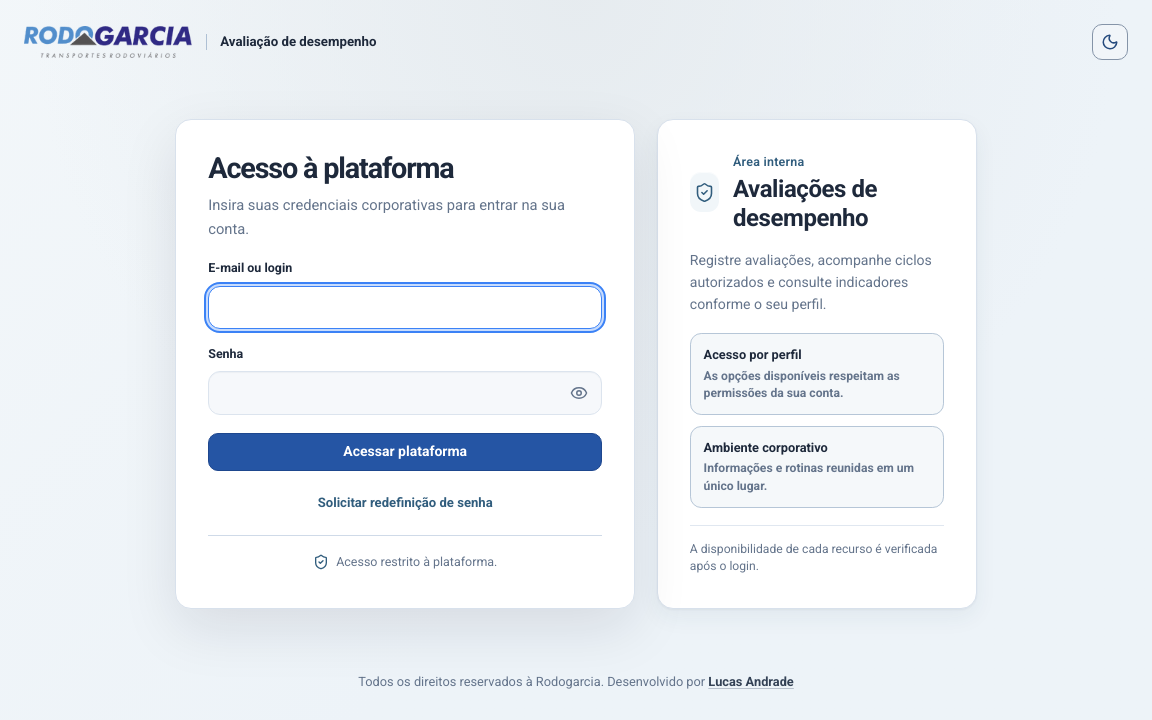
Test: Solicitação de recuperação no login › aceita o login, evita envios simultâneos e responde sem revelar se a conta existe
Click the button "Solicitar redefinição de senha" at (405, 503), box [310,487,501,519]
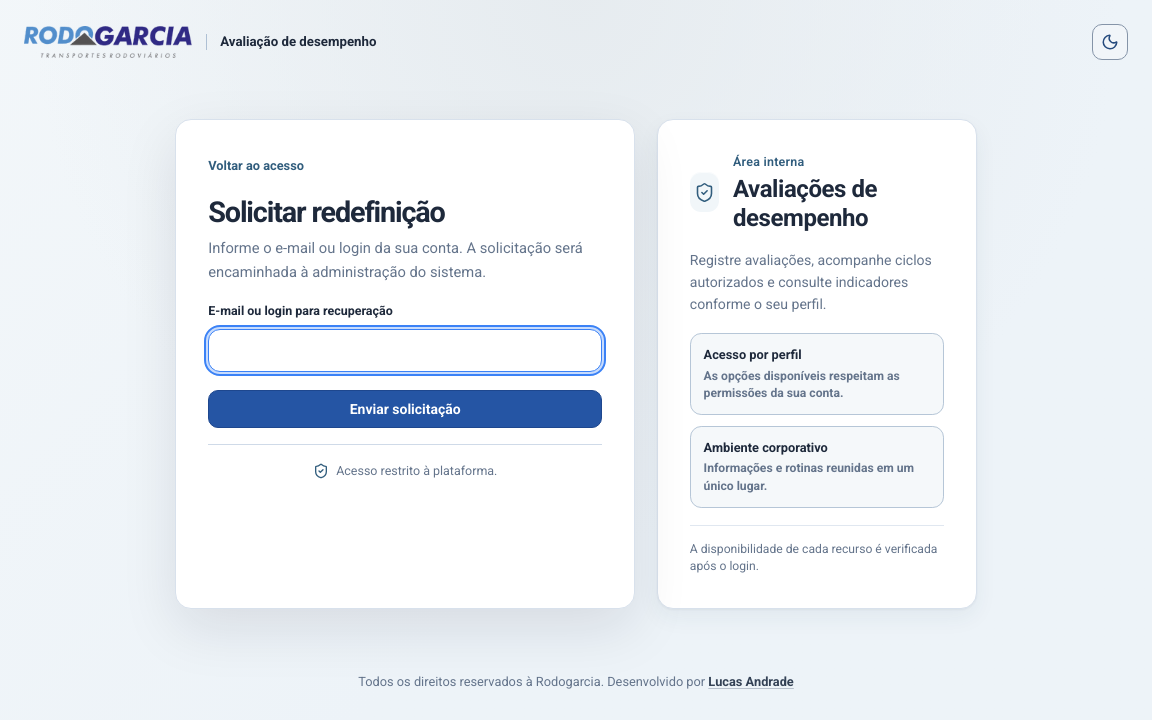
Click the button "Enviar solicitação" at (405, 409), box [208,390,602,428]
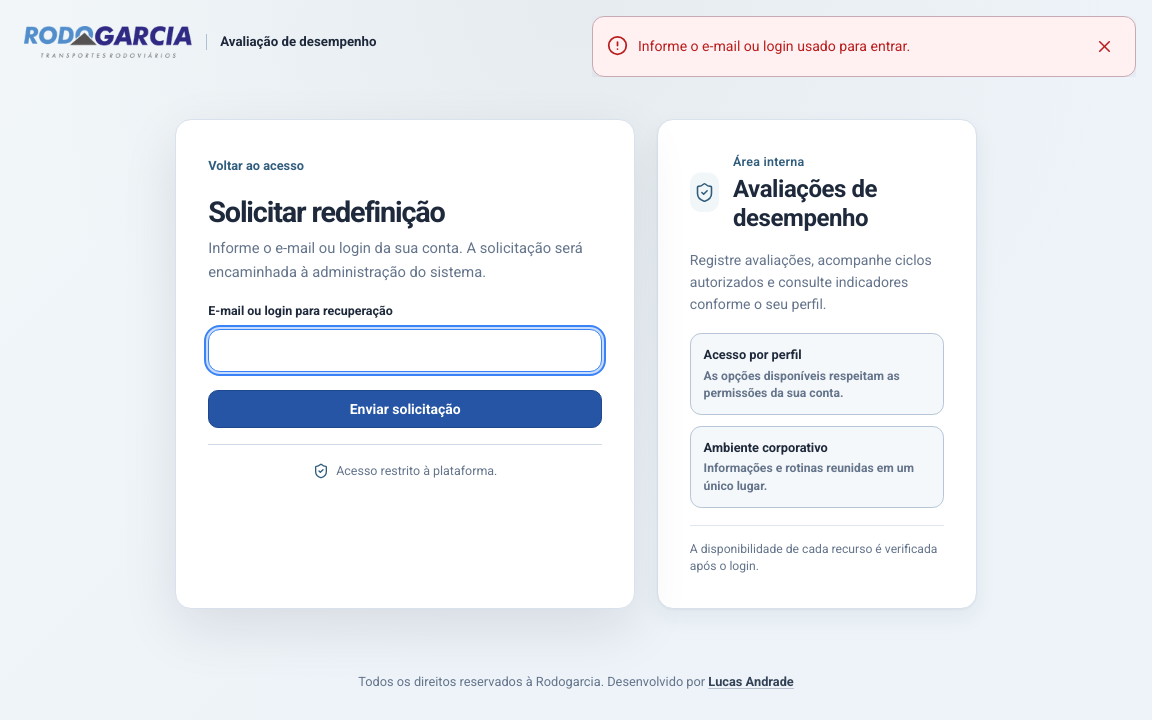
Expected: the message shows "Informe o e-mail ou login", [638,38,910,54]
Type " ficticio@example.invalid " into the field labelled "E-mail ou login para recuperação" at (405, 350), box [208,329,602,372]
Click the button "Enviar solicitação" at (405, 409), box [208,390,602,428]
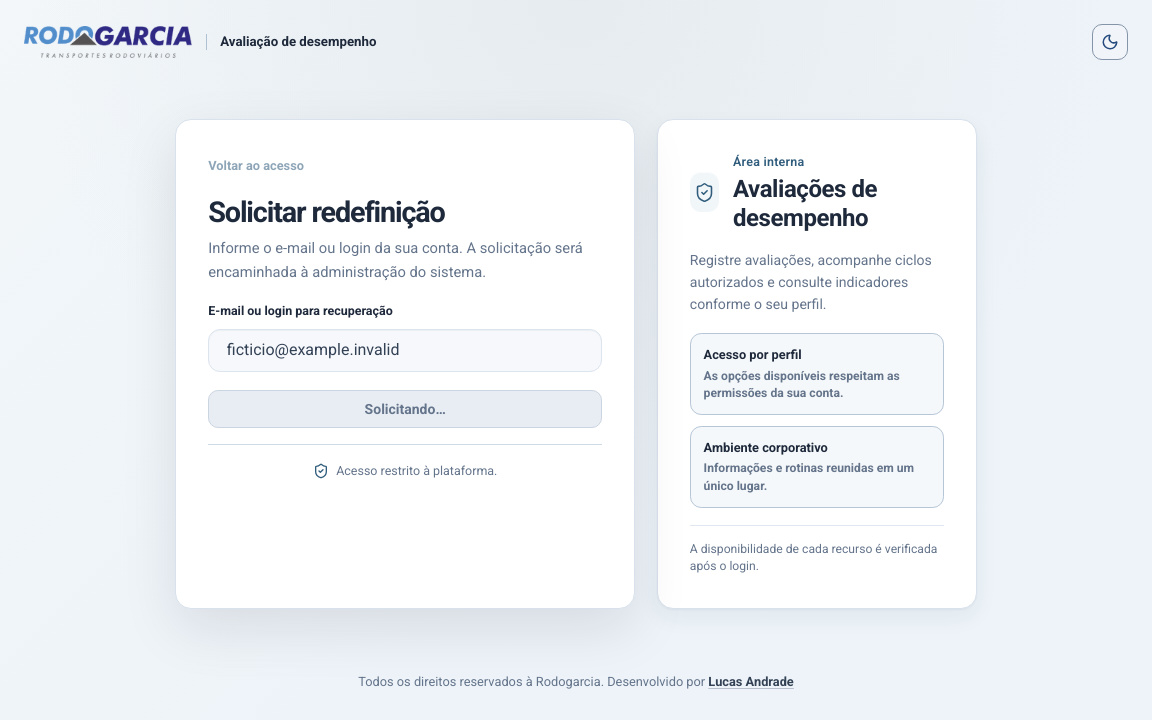
Click the button named "Enviar solicitação" at (405, 409), box [208,390,602,428]
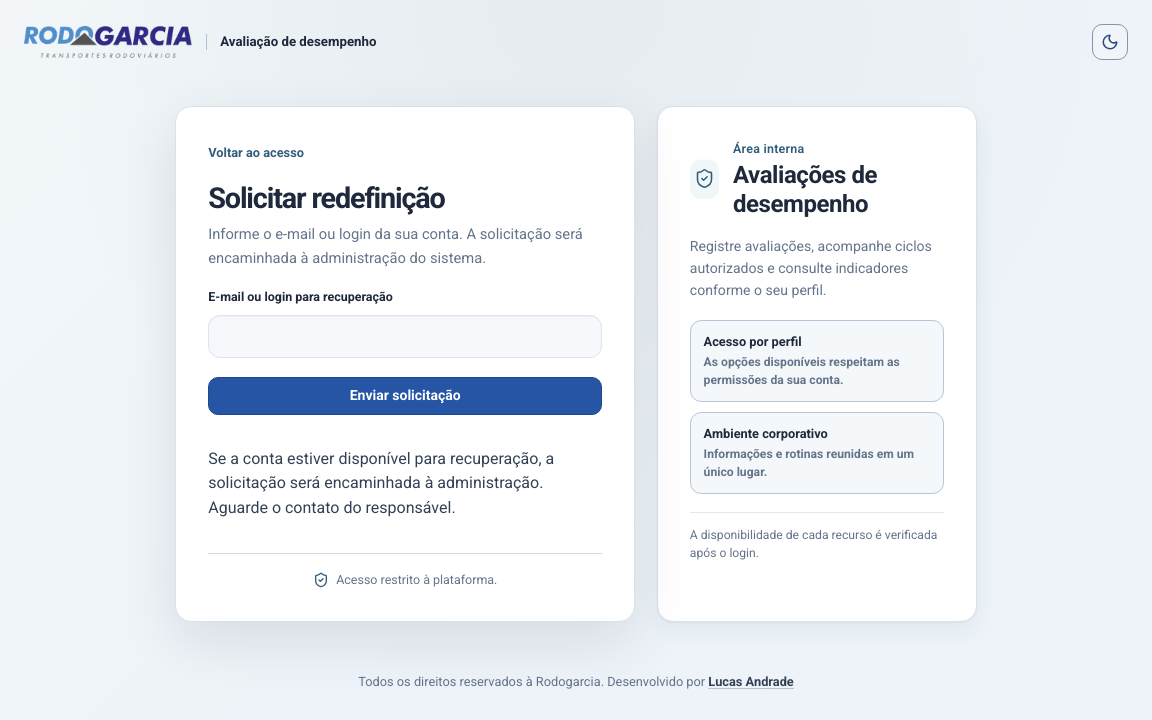
Expected: the text "Se a conta estiver disponível para recuperação" is shown, [208,449,554,517]
Expected: the field labelled "E-mail ou login para recuperação" is empty
Type "ficticio@example.invalid" into the field labelled "E-mail ou login para recuperação" at (405, 337), box [208,315,602,358]
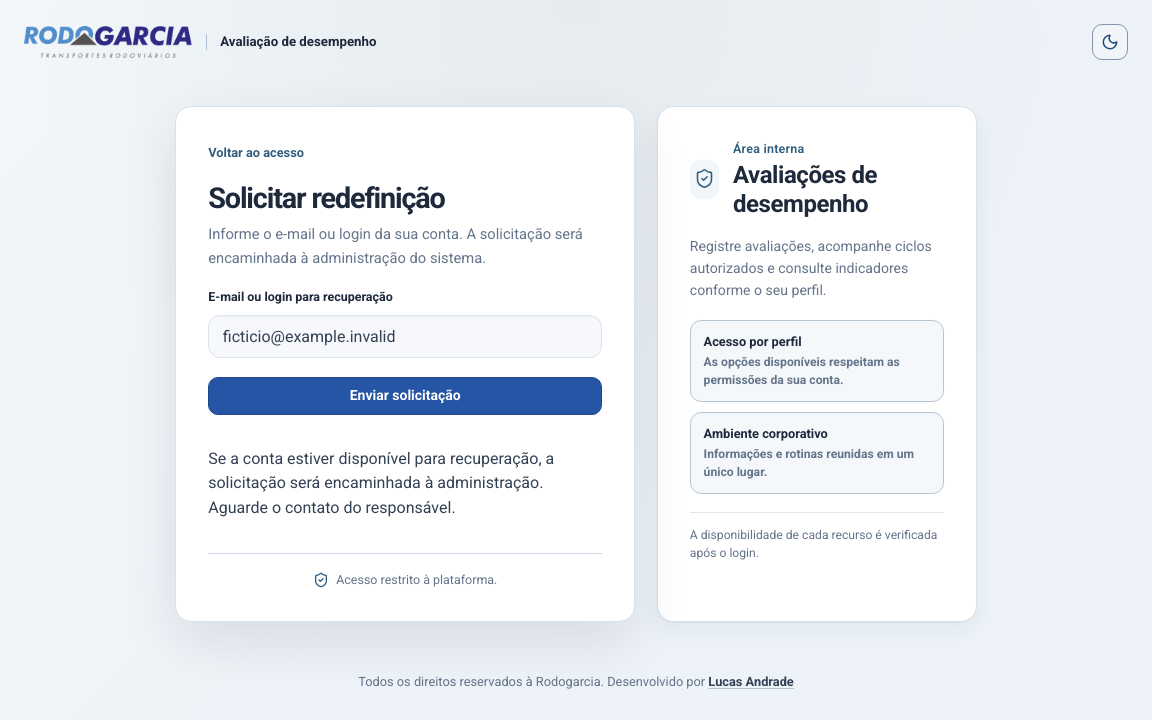
Click the button "Enviar solicitação" at (405, 396), box [208,377,602,415]
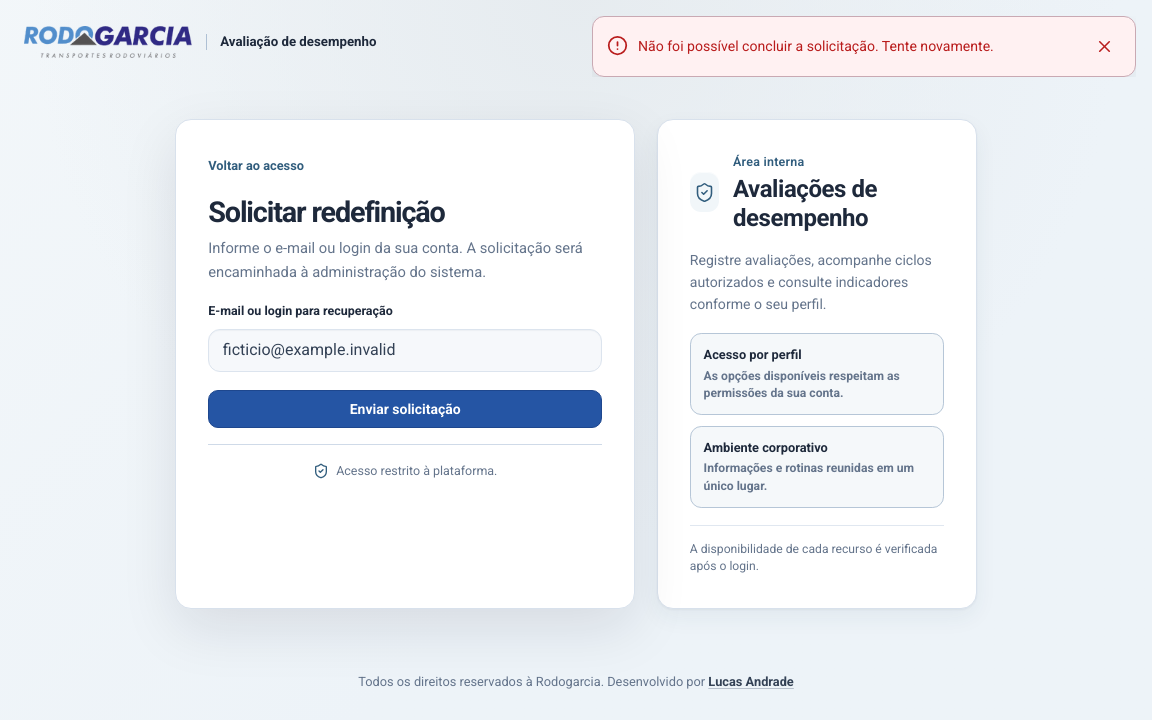
Expected: the message "Não foi possível concluir a solicitação. Tente novamente." is shown, [592,16,1136,77]
Expected: the text "Se a conta estiver disponível para recuperação" is gone
